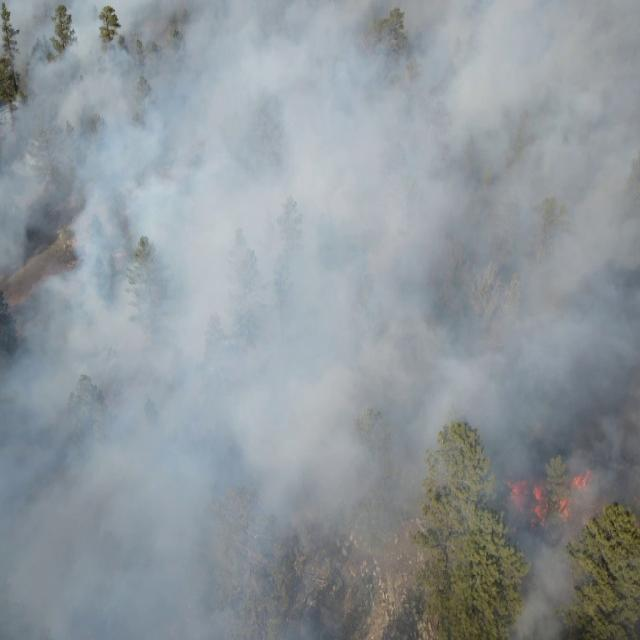fire: (505, 469, 595, 523)
smoke: (0, 0, 476, 640), (474, 0, 640, 521), (506, 524, 598, 640)
